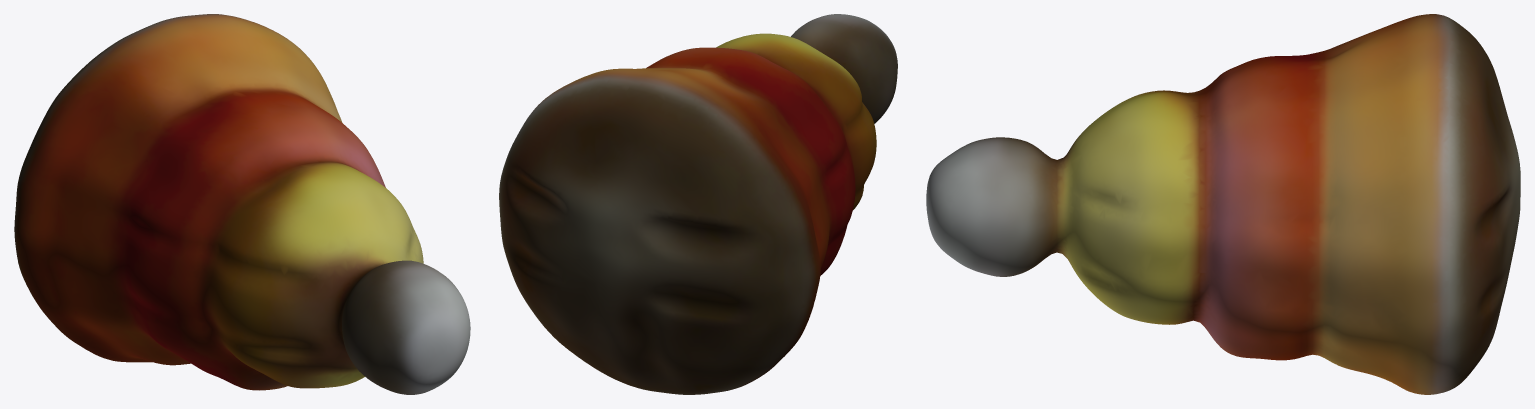
The model's file is chicken.glb.
3 renders of one model, left to right at view 1: azimuth 30°, elevation 25°; view 2: azimuth 150°, elevation 25°; view 3: azimuth 270°, elevation 25°, orthographic. The views are drawn at different scales.
Size of the model in its own units: 0.6583 by 0.6414 by 0.9998.
